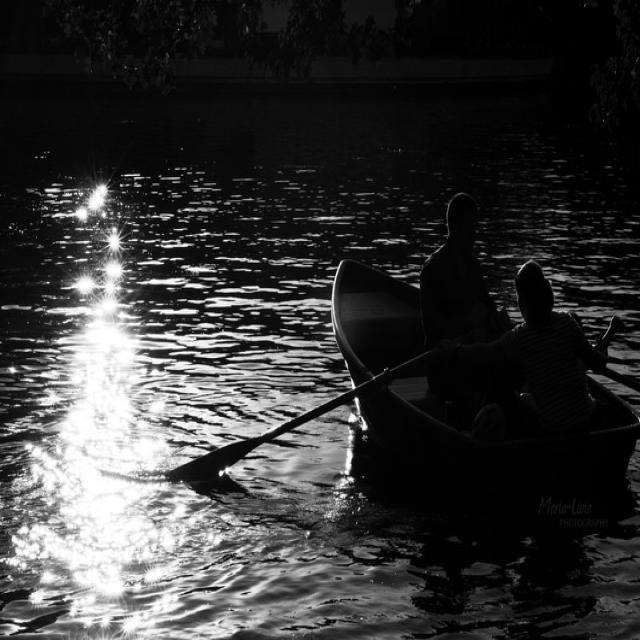Boat: (314, 201, 640, 551)
People: (387, 167, 482, 396), (498, 248, 579, 433)
